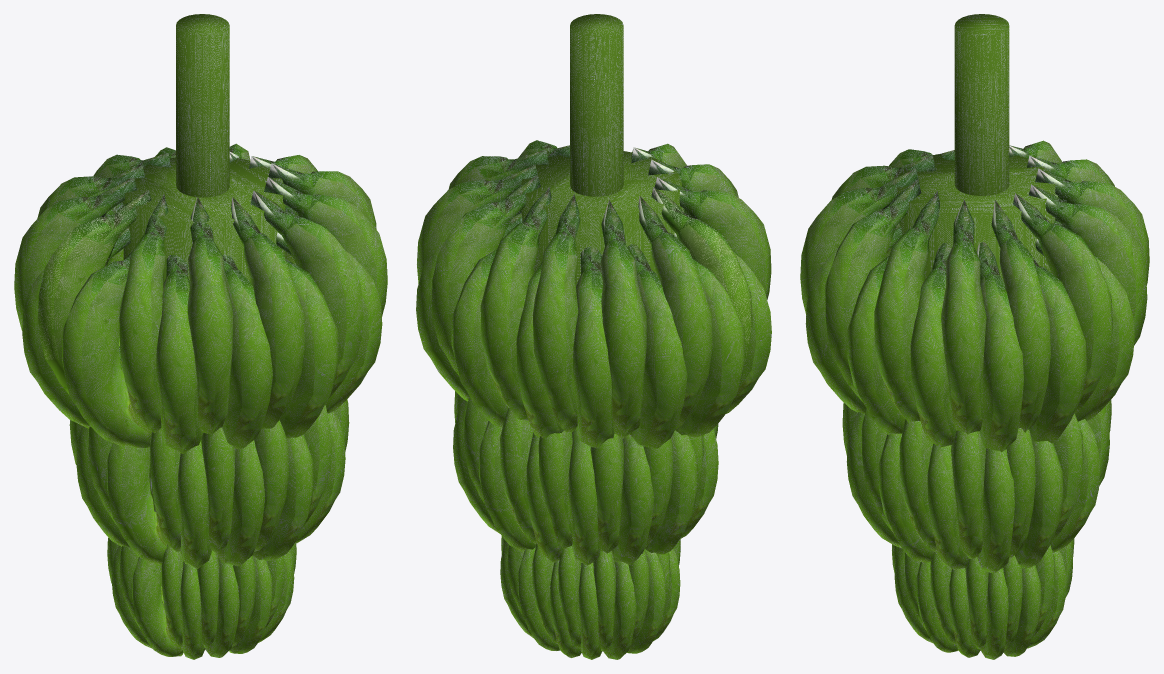
3 renders of one model, left to right at view 1: azimuth 30°, elevation 25°; view 2: azimuth 150°, elevation 25°; view 3: azimuth 270°, elevation 25°, orthographic.
Visible parts, largest first — view 1: _3D_Banana.__Low-Poly._ (×39), SketchUp (×2); view 2: _3D_Banana.__Low-Poly._ (×43), SketchUp (×2); view 3: _3D_Banana.__Low-Poly._ (×41), SketchUp (×2).
Part boxes in pixels (left/top/right/bottom): _3D_Banana.__Low-Poly._ (×39): left=14, top=153, right=387, bottom=659; SketchUp (×2): left=123, top=14, right=285, bottom=511; _3D_Banana.__Low-Poly._ (×43): left=416, top=140, right=771, bottom=659; SketchUp (×2): left=521, top=14, right=681, bottom=285; _3D_Banana.__Low-Poly._ (×41): left=800, top=140, right=1149, bottom=659; SketchUp (×2): left=896, top=14, right=1055, bottom=279.
Size of the model in its own units: 359 by 333 by 650.
Materials: 4 (2 with a texture image).
